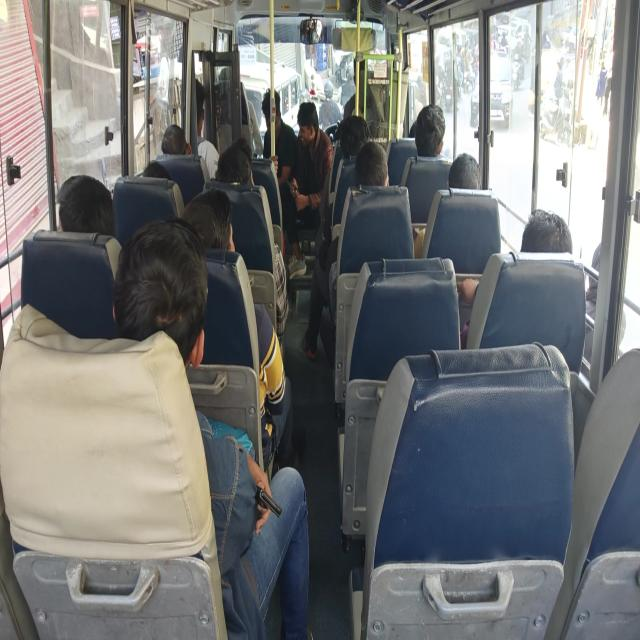person: (127, 226, 200, 352), (189, 185, 245, 264), (52, 174, 117, 240), (524, 206, 570, 265), (354, 147, 397, 198), (178, 80, 212, 128), (213, 148, 255, 186), (452, 152, 486, 198), (163, 116, 195, 159), (418, 109, 442, 160), (261, 86, 285, 132), (296, 103, 320, 142), (340, 122, 370, 150), (228, 135, 254, 160), (144, 151, 161, 187), (402, 115, 418, 140)
